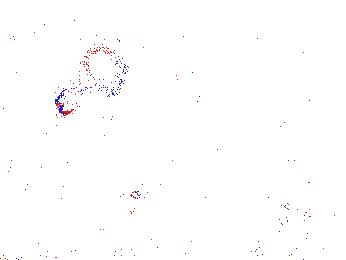flame jellyfish: (52, 46, 134, 116), (271, 173, 346, 229), (112, 144, 160, 201)
